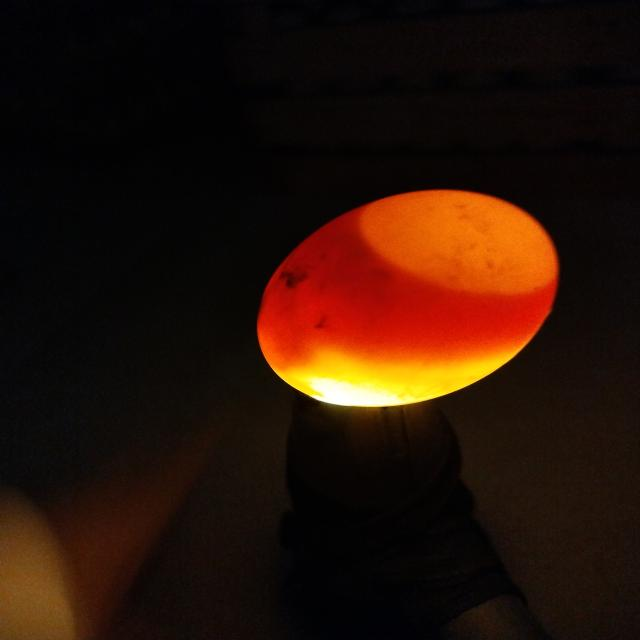Area Infectada: (279, 270, 308, 290)
